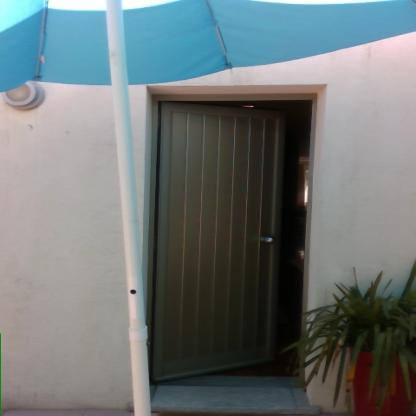semi: (132, 69, 324, 397)
